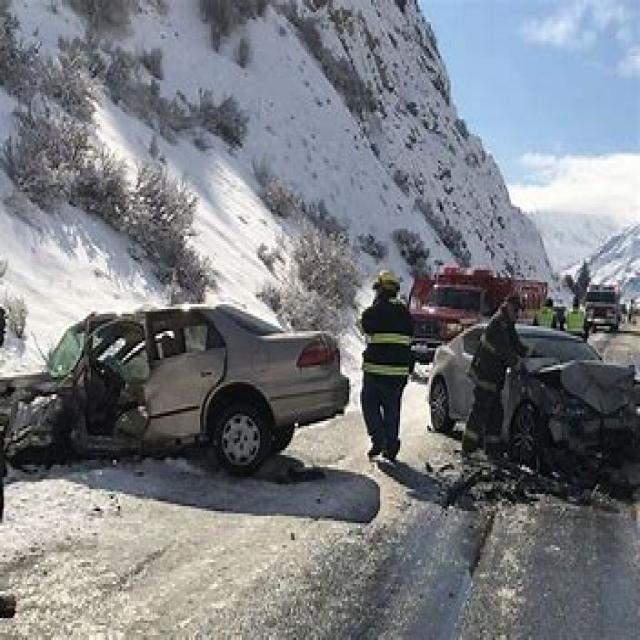Accident: (39, 147, 636, 532)
